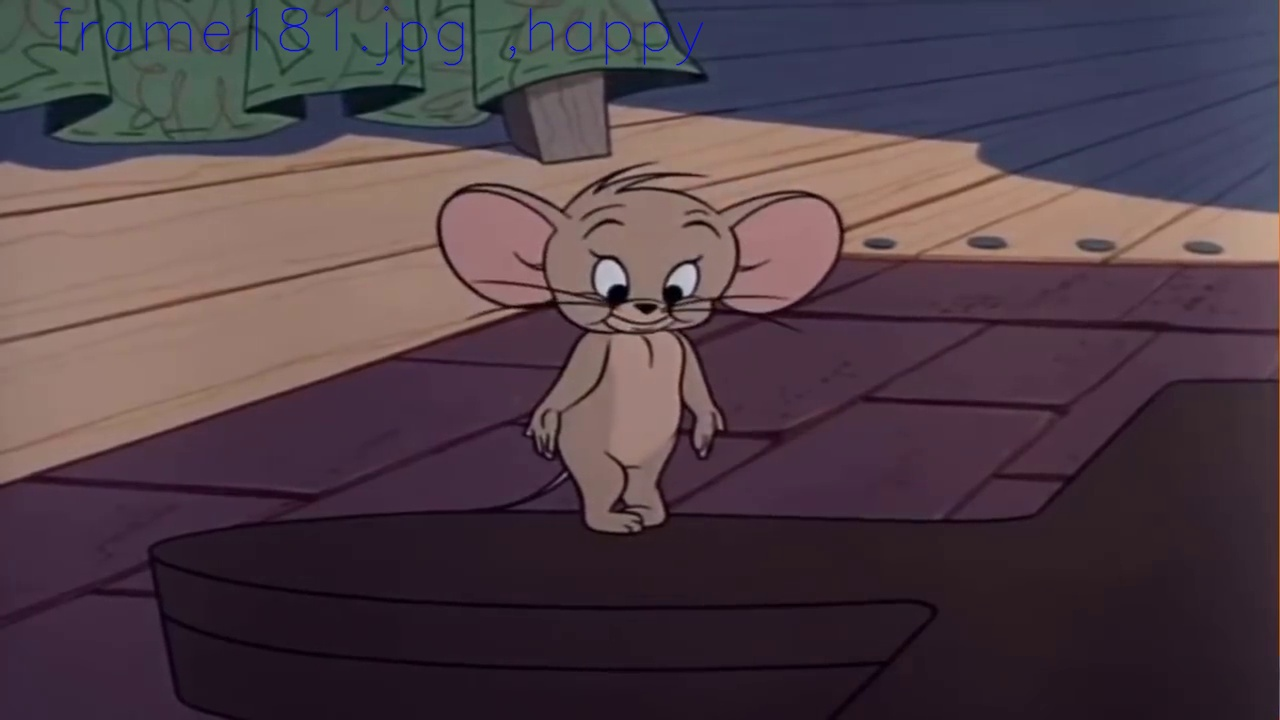happy: (578, 203, 705, 333)
